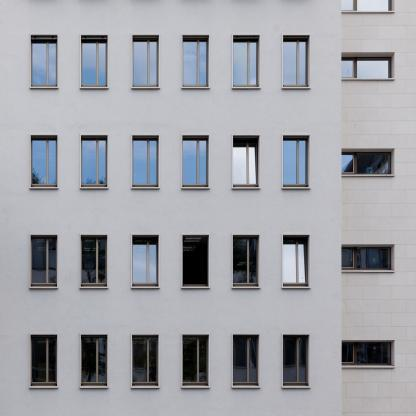Building Outline: (0, 1, 341, 416)
Facade: (0, 1, 341, 416)
Floor: (0, 0, 341, 111), (0, 118, 341, 214), (0, 221, 341, 313), (0, 320, 341, 409)
Floor Slab: (0, 409, 341, 416), (0, 111, 341, 118), (0, 214, 341, 221), (0, 314, 341, 321)
Window: (81, 135, 108, 187), (132, 135, 159, 187), (182, 135, 209, 187), (232, 135, 259, 187), (81, 235, 108, 287), (132, 235, 159, 287), (182, 235, 209, 287), (232, 235, 259, 287), (81, 35, 108, 86), (81, 335, 108, 386), (132, 35, 159, 86), (132, 335, 159, 386), (182, 35, 209, 86), (182, 335, 209, 386), (232, 35, 259, 86), (232, 335, 259, 386), (283, 135, 309, 187), (31, 135, 57, 187), (283, 235, 309, 287), (31, 235, 57, 287), (283, 35, 309, 86), (283, 335, 309, 386), (31, 35, 57, 86), (31, 335, 57, 386)
